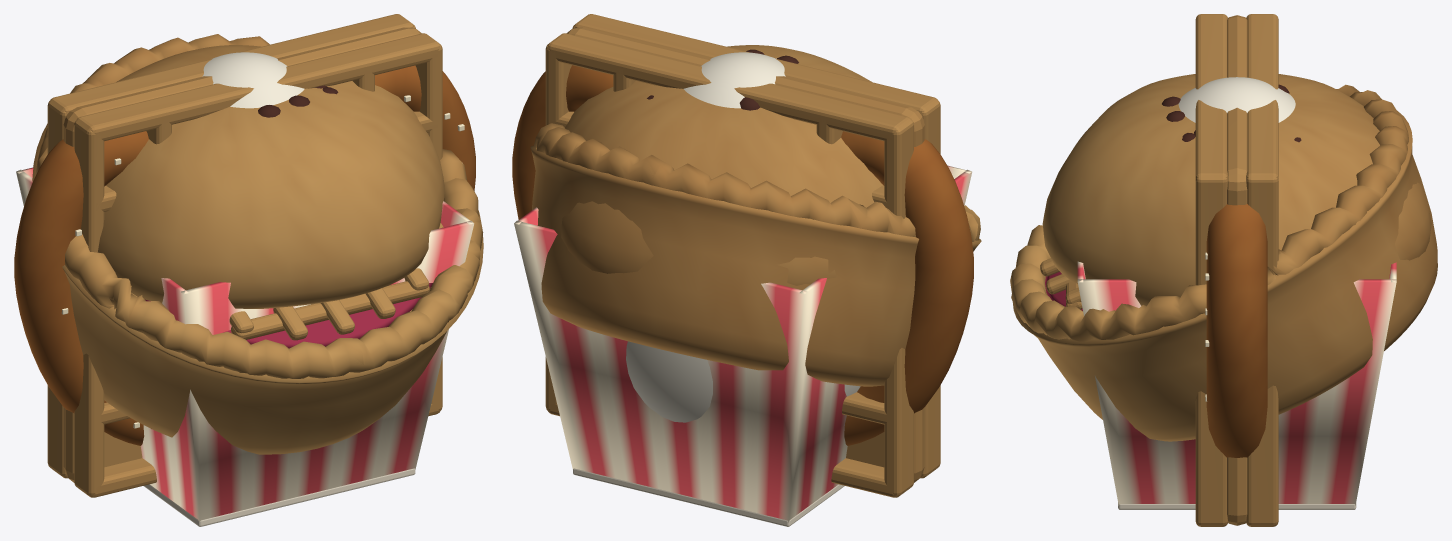
Rendered from typeslasher-snacks-pack.glb.
The picture shows the model from 3 angles, left to right: view 1: azimuth 30°, elevation 25°; view 2: azimuth 150°, elevation 25°; view 3: azimuth 270°, elevation 25°; orthographic projection. The views are drawn at different scales.
Parts seen in each view (by area): view 1: Baked muffin.003, Berry filling under lattice, Golden waffle base, Carton base.004, Salt crystal, Golden waffle base.003, Golden waffle base.004, Intact egg shell, Berry filling under lattice.003, Carton base.003, Berry filling under lattice.001, Berry filling under lattice.007 (+1 smaller); view 2: Berry filling under lattice, Carton base.004, Golden waffle base, Baked muffin.003, Salt crystal, Intact egg shell, Golden waffle base.003, Golden waffle base.004, Carton base.003; view 3: Berry filling under lattice, Baked muffin.003, Golden waffle base, Carton base.004, Salt crystal, Golden waffle base.003, Intact egg shell, Golden waffle base.004, Carton base.003, Baked muffin.
Boxes of the visible parts, x1=… form: Baked muffin.003: x1=97, y1=45, x2=444, y2=308; Berry filling under lattice: x1=32, y1=34, x2=483, y2=454; Golden waffle base: x1=47, y1=14, x2=442, y2=497; Carton base.004: x1=16, y1=167, x2=474, y2=522; Salt crystal: x1=14, y1=65, x2=475, y2=445; Golden waffle base.003: x1=56, y1=59, x2=253, y2=496; Golden waffle base.004: x1=239, y1=14, x2=438, y2=414; Intact egg shell: x1=202, y1=52, x2=304, y2=108; Berry filling under lattice.003: x1=145, y1=283, x2=432, y2=348; Carton base.003: x1=144, y1=468, x2=415, y2=526; Berry filling under lattice.001: x1=157, y1=44, x2=363, y2=364; Berry filling under lattice.007: x1=159, y1=38, x2=426, y2=364; Berry filling under lattice: x1=530, y1=123, x2=981, y2=386; Carton base.004: x1=514, y1=165, x2=972, y2=522; Golden waffle base: x1=545, y1=14, x2=940, y2=497; Baked muffin.003: x1=561, y1=45, x2=882, y2=285; Salt crystal: x1=512, y1=65, x2=973, y2=445; Intact egg shell: x1=626, y1=52, x2=860, y2=422; Golden waffle base.003: x1=735, y1=59, x2=931, y2=496; Golden waffle base.004: x1=550, y1=14, x2=748, y2=415; Carton base.003: x1=573, y1=468, x2=844, y2=526; Berry filling under lattice: x1=1010, y1=84, x2=1437, y2=441; Baked muffin.003: x1=1042, y1=74, x2=1431, y2=306; Golden waffle base: x1=1195, y1=14, x2=1278, y2=526; Carton base.004: x1=1077, y1=261, x2=1396, y2=505; Salt crystal: x1=1206, y1=204, x2=1267, y2=457; Golden waffle base.003: x1=1195, y1=14, x2=1277, y2=89; Intact egg shell: x1=1178, y1=77, x2=1295, y2=122; Golden waffle base.004: x1=1196, y1=100, x2=1278, y2=176; Carton base.003: x1=1118, y1=503, x2=1356, y2=509; Baked muffin: x1=1162, y1=84, x2=1301, y2=142.
Bounding box in the file's own units: 2.28 × 1.9 × 1.96.
